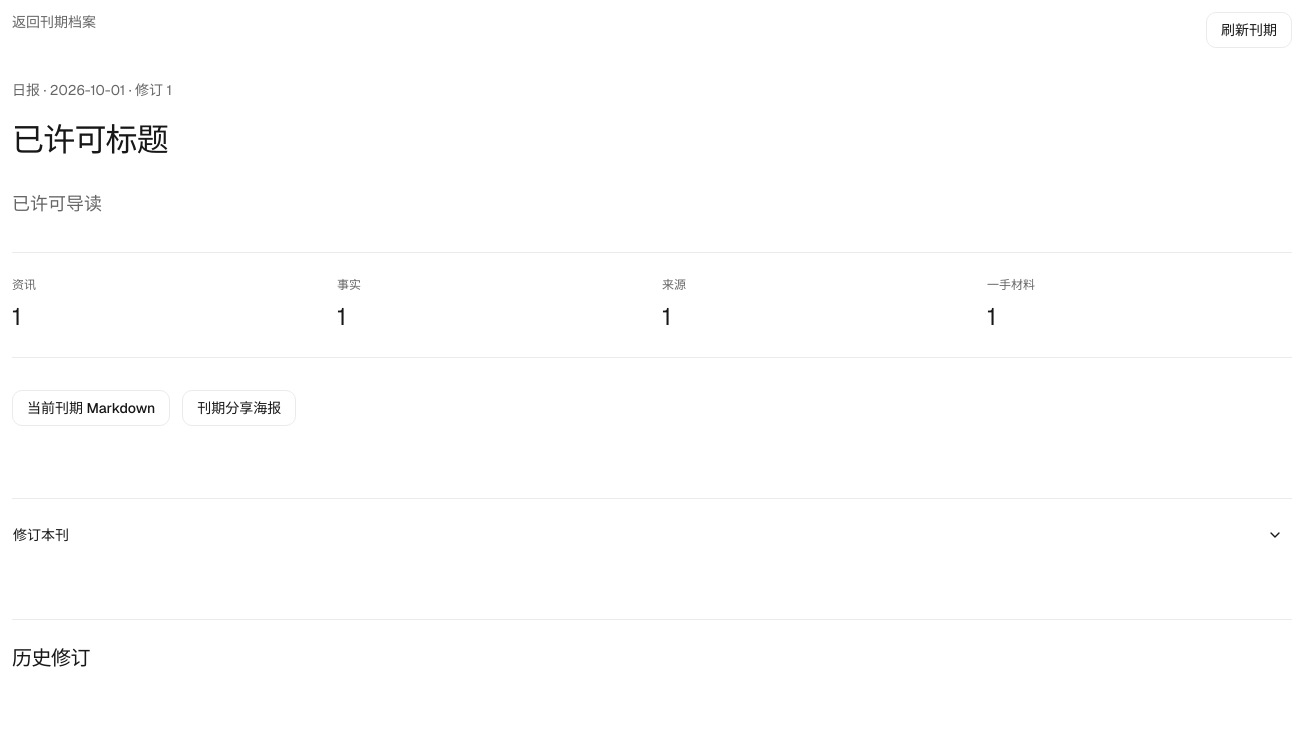
Test: Edition reading › removes the whole old body when a refresh reports withdrawn material
This screenshot has width=1304, height=732.
Click the button "刷新刊期". click: click(1249, 30)
box: [1206,12,1292,48]
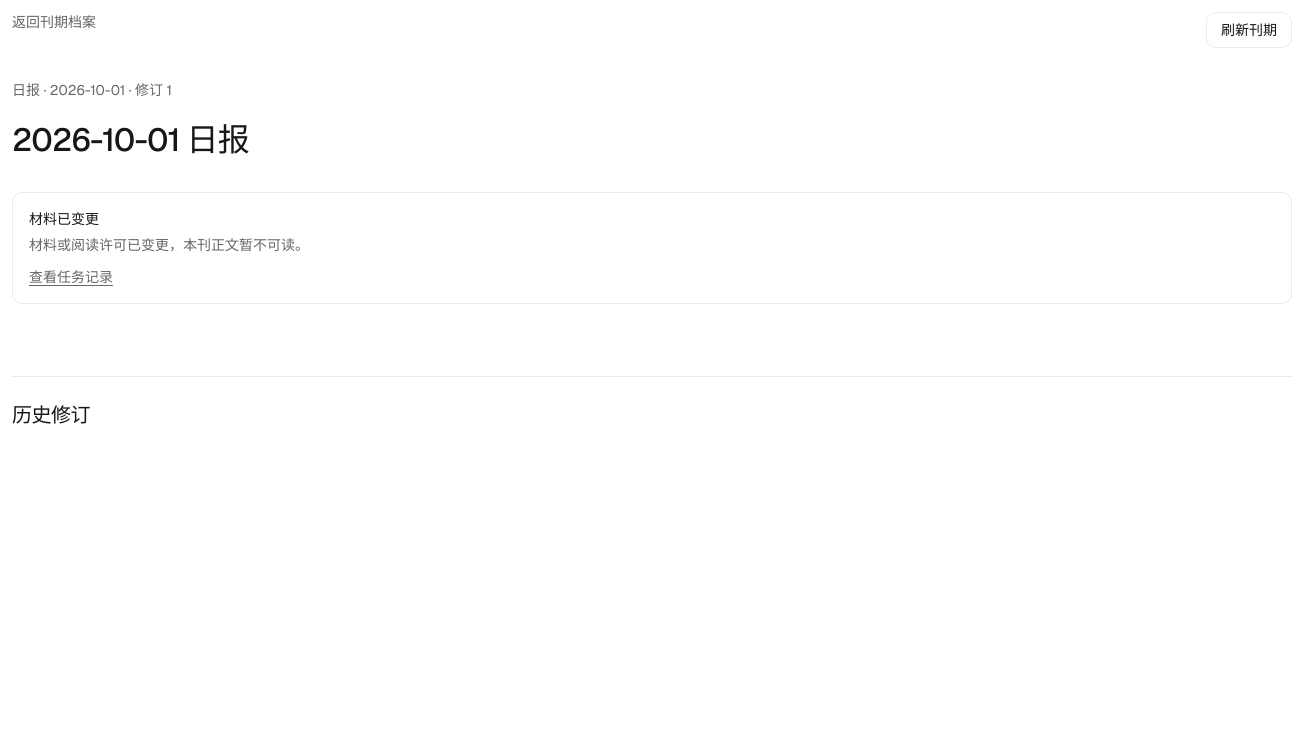
expect the text "材料已变更" is shown: met, box [29,210,99,228]
expect the text "已许可导读" is not shown: met
expect the heading "已许可标题" is gone: met
